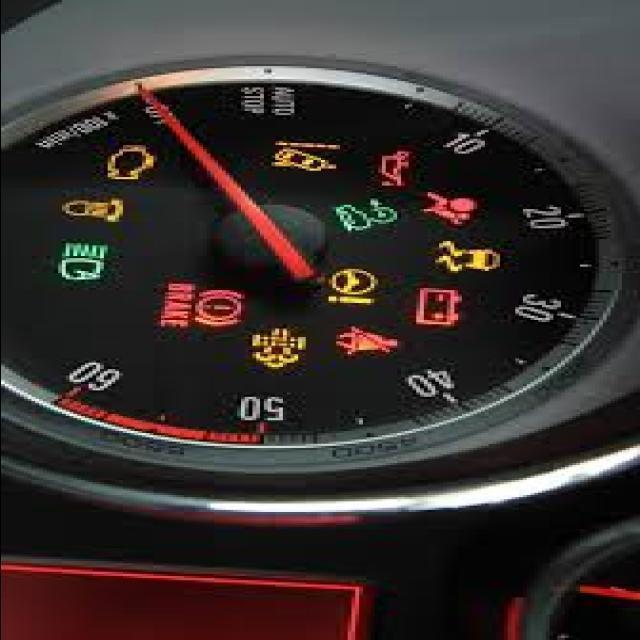Electronic Power Steering: (326, 265, 379, 305)
Seat Belt: (338, 324, 402, 362)
